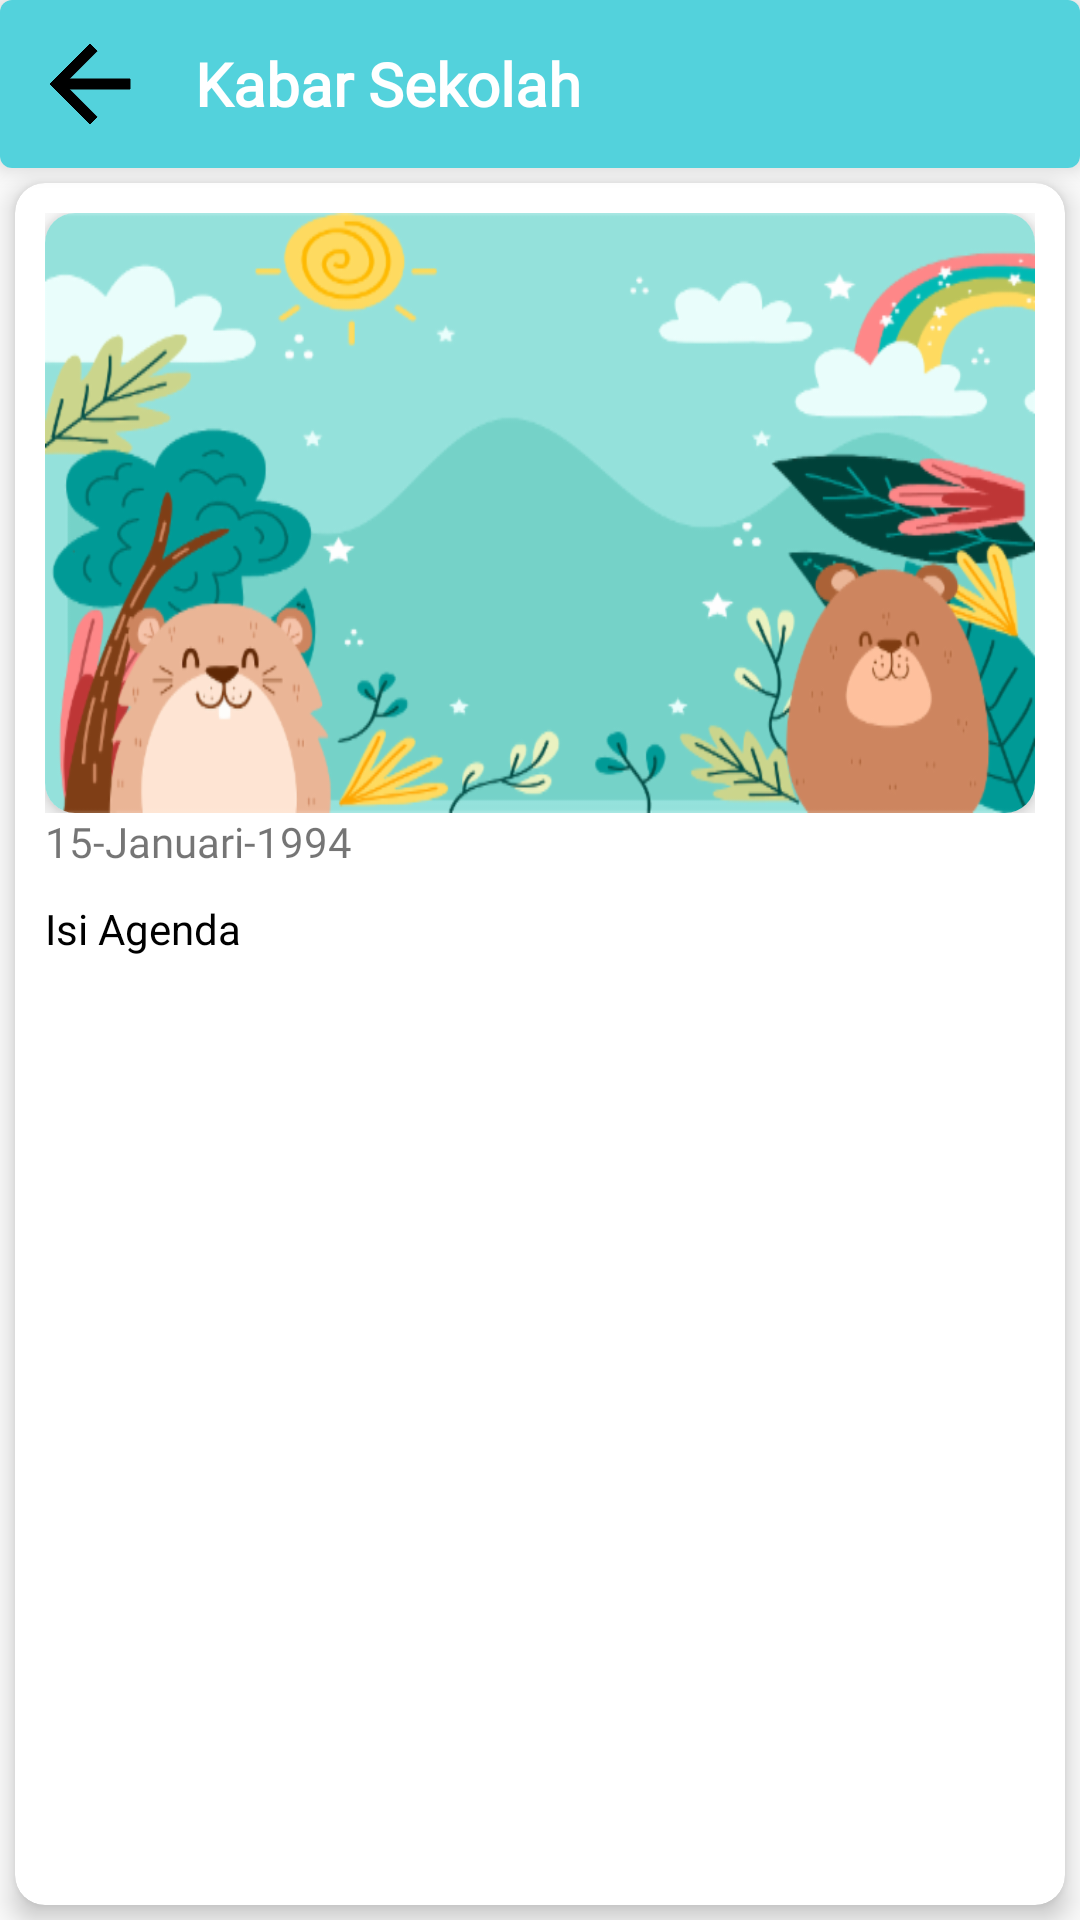

Where to tap for icons on this 1080*1920 app screen, as (x,y):
arrow back: (90,84)
